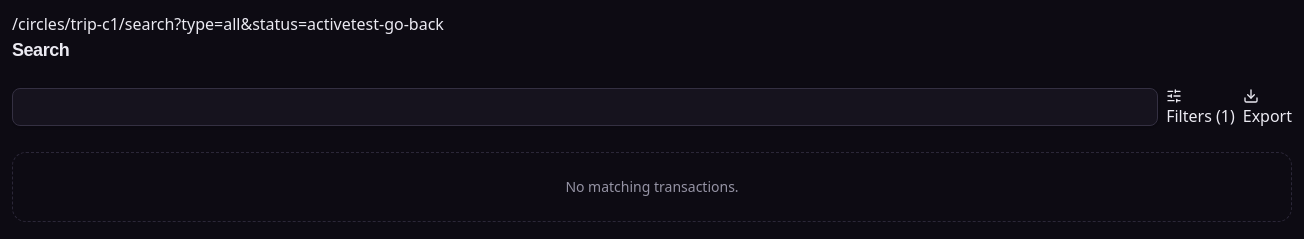
Test: CircleSearch › updates the URL as the user types (debounced)
The width and height of the screenshot is (1304, 239).
Type "rent" into the search field named "Search title or note". click: {"x": 585, "y": 107}
box: [12,88,1158,126]
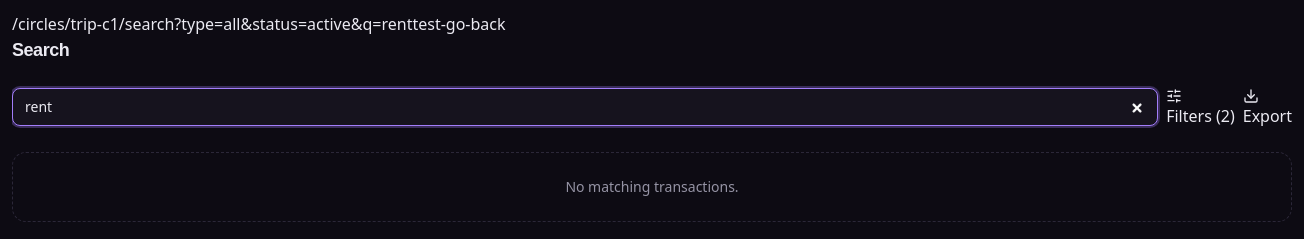
Now the text with test id "location" shows "q=rent", box [12,13,412,35]
